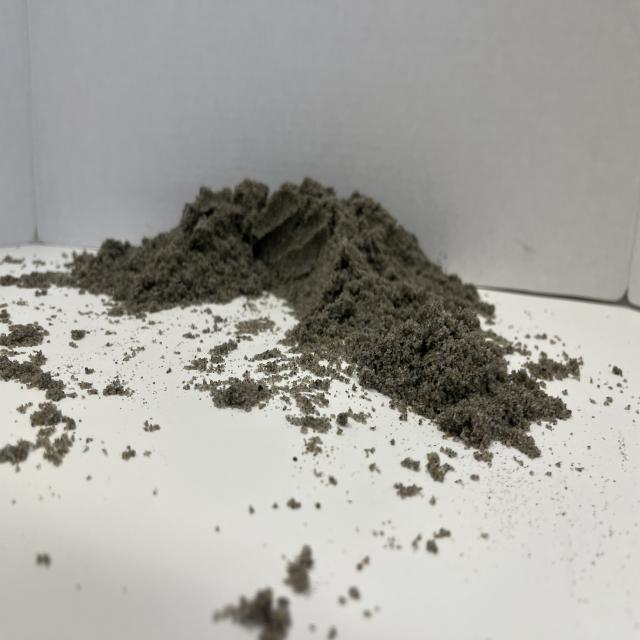sand: (55, 160, 556, 406)
